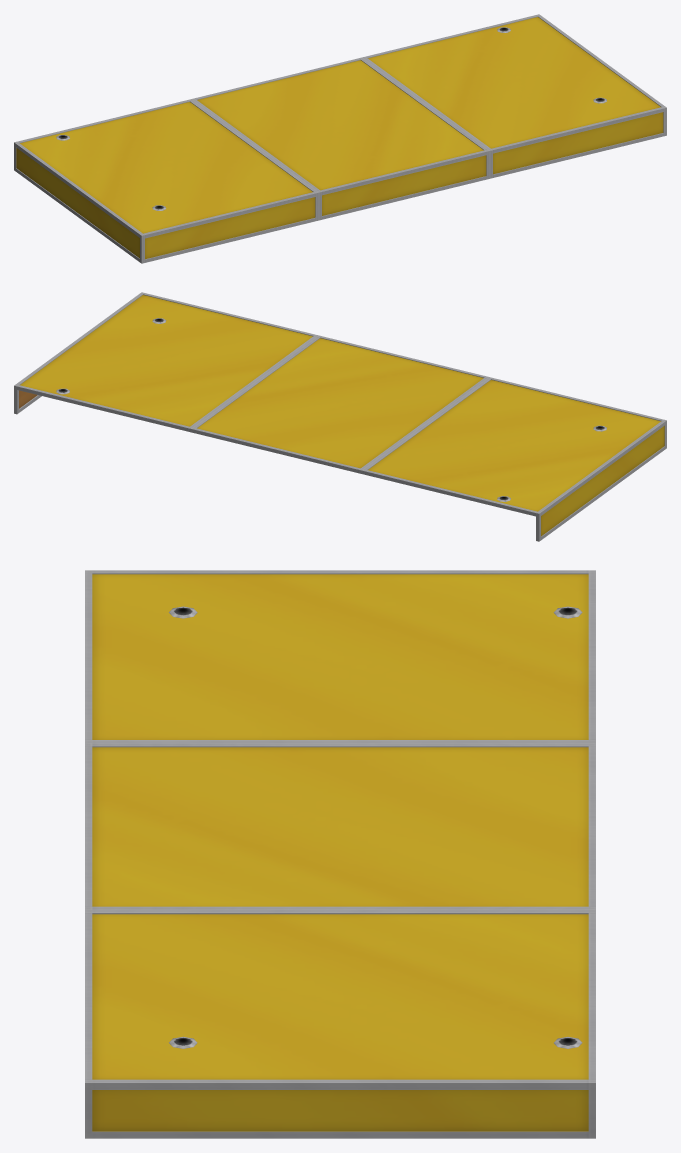
File: jsf_4P_s02_c03_t01_DX.fbx
3 renders of one model, top to bottom at view 1: azimuth 30°, elevation 25°; view 2: azimuth 150°, elevation 25°; view 3: azimuth 270°, elevation 25°, orthographic. The views are drawn at different scales.
Parts seen in each view (by area): view 1: jsf_4P_s02_c03_t01_DX; view 2: jsf_4P_s02_c03_t01_DX; view 3: jsf_4P_s02_c03_t01_DX.
Boxes of the visible parts, <box> form: jsf_4P_s02_c03_t01_DX: <box>14,14,666,263</box>; jsf_4P_s02_c03_t01_DX: <box>14,292,666,541</box>; jsf_4P_s02_c03_t01_DX: <box>85,570,595,1138</box>.
Size of the model in its own units: 246 by 12.99 by 104.
